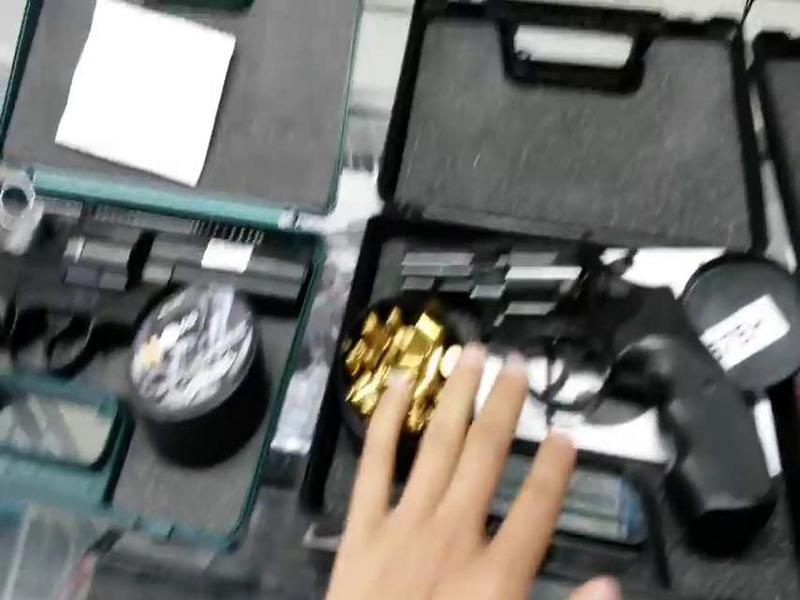Revolver: (377, 214, 788, 530), (1, 204, 322, 426)
